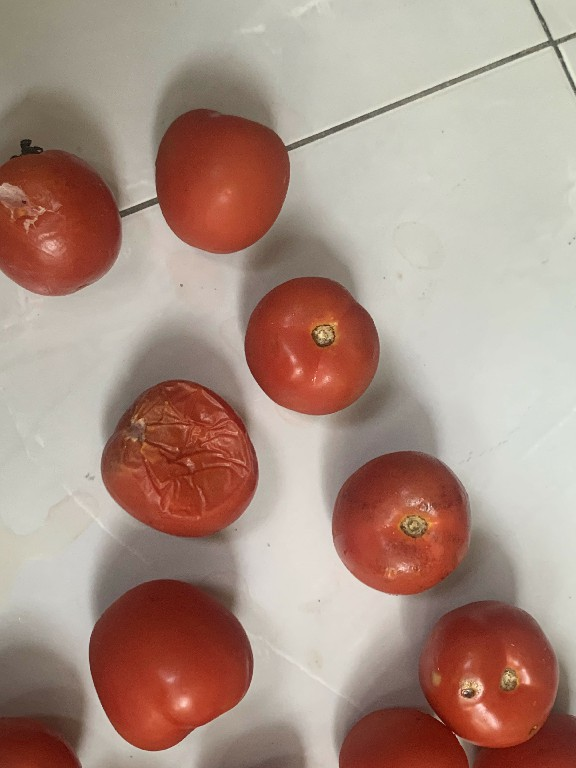NG: (93, 377, 262, 540), (418, 602, 560, 760), (0, 131, 124, 304)
OK: (88, 568, 255, 758), (147, 106, 299, 253), (237, 273, 388, 420), (330, 444, 471, 595)
